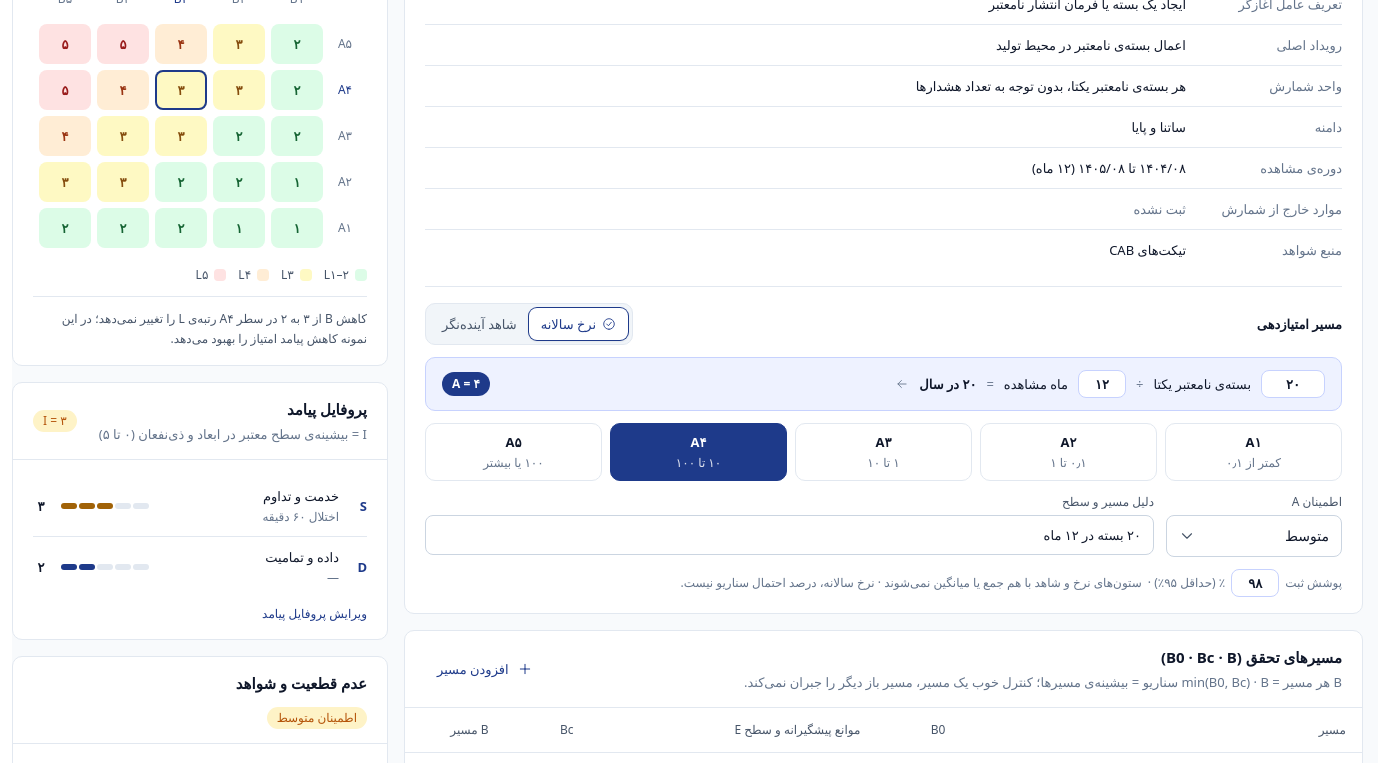
AnalysisPage › recomputes A from the rate and saves it through the initiator form
(page scrolled)
Step 1. Replace the text in the field named "تعداد آغازگر یکتا" with "200" → (1293, 384), box top-left (1261, 370), bottom-right (1325, 398)
(page scrolled)
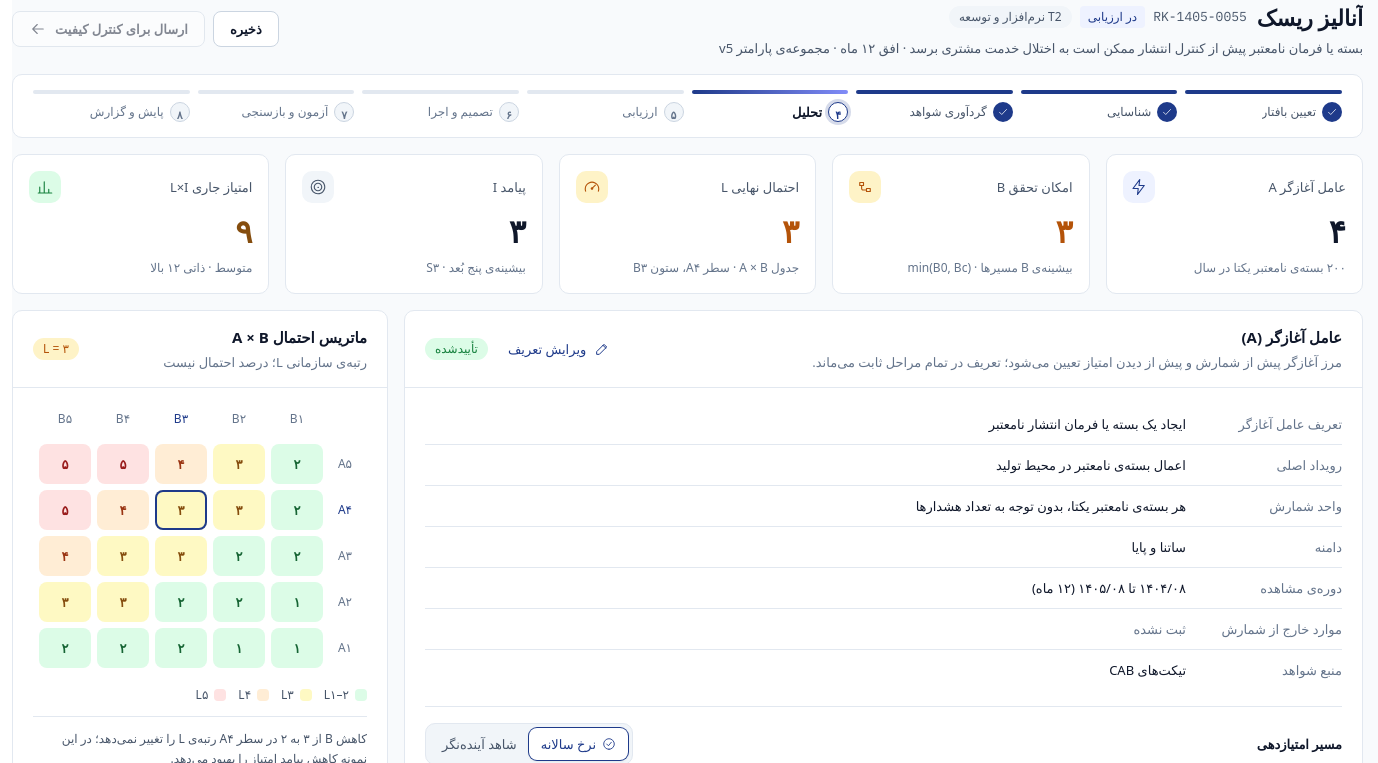
Now the button "ارسال برای کنترل کیفیت" is disabled, box top-left (12, 11), bottom-right (205, 47)
Step 2. Click the button "ذخیره" → click(246, 29), box top-left (213, 11), bottom-right (279, 47)
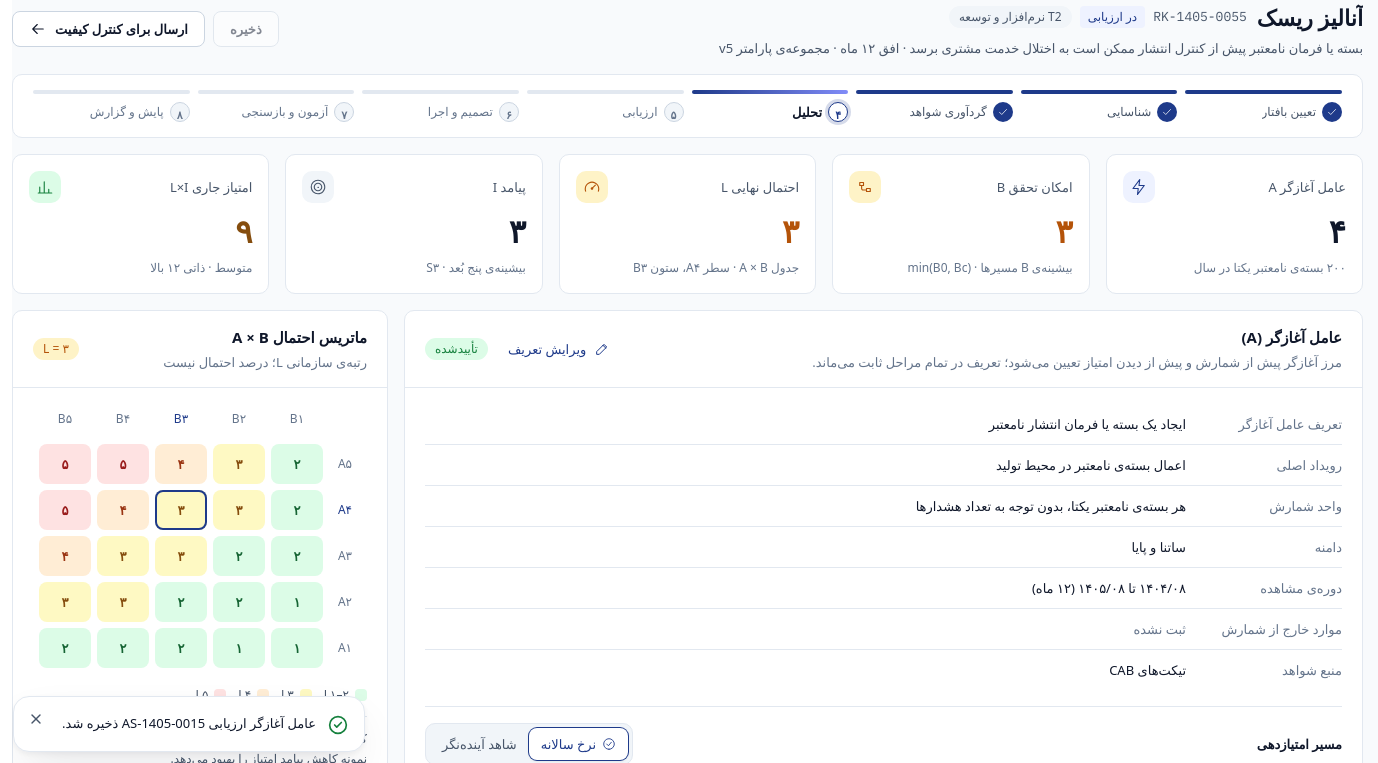
Now the text "عامل آغازگر ارزیابی AS-1405-0015 ذخیره شد." is shown, box top-left (62, 713), bottom-right (316, 733)
Now the button "ذخیره" is disabled, box top-left (213, 11), bottom-right (279, 47)
